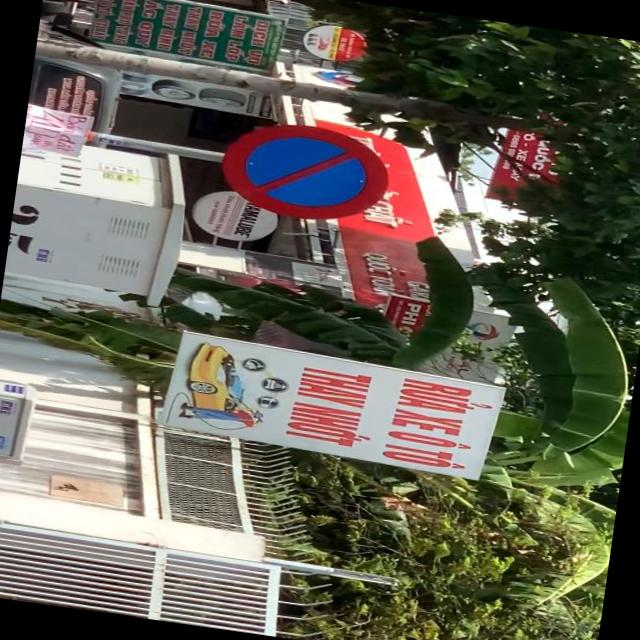P-131a: (218, 116, 396, 230)
